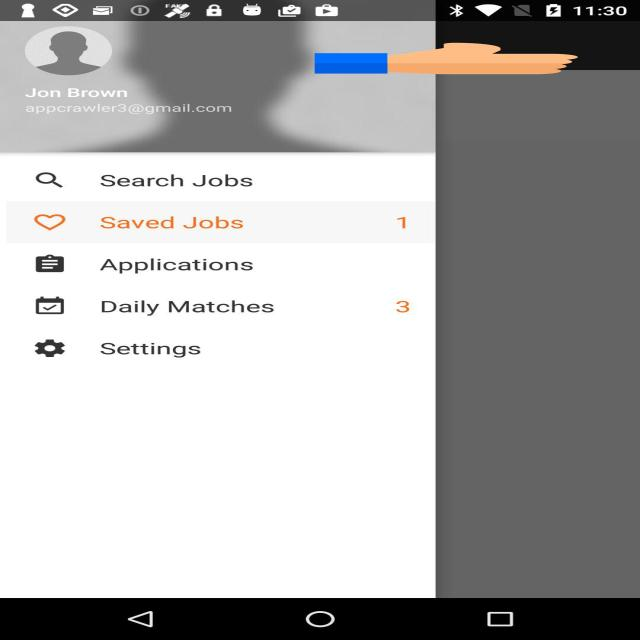privacy zuckering: (314, 42, 578, 75)
